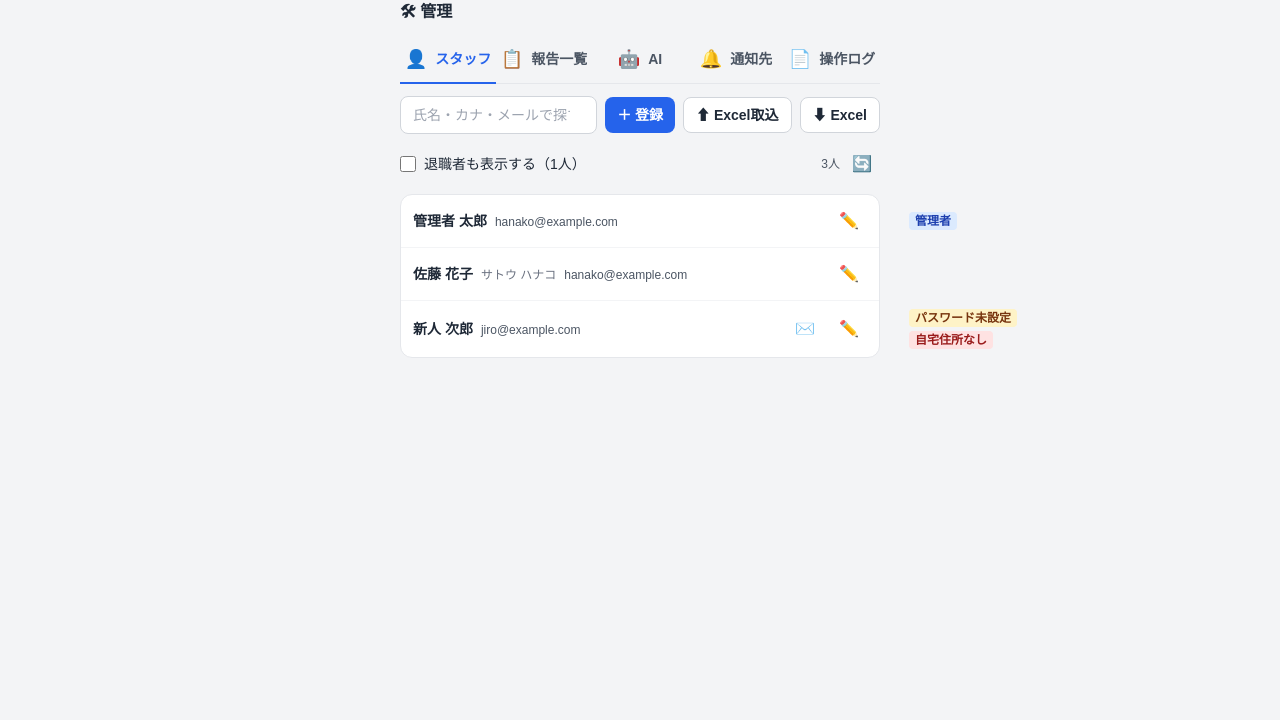
Test: 管理タブ: 指摘への対応 › 許可されていないカレンダーのサーバーの理由を項目の下に出す
Click the button named "佐藤 花子さんを編集" at (849, 274), box 831,256 -> 867,292
(page scrolled)
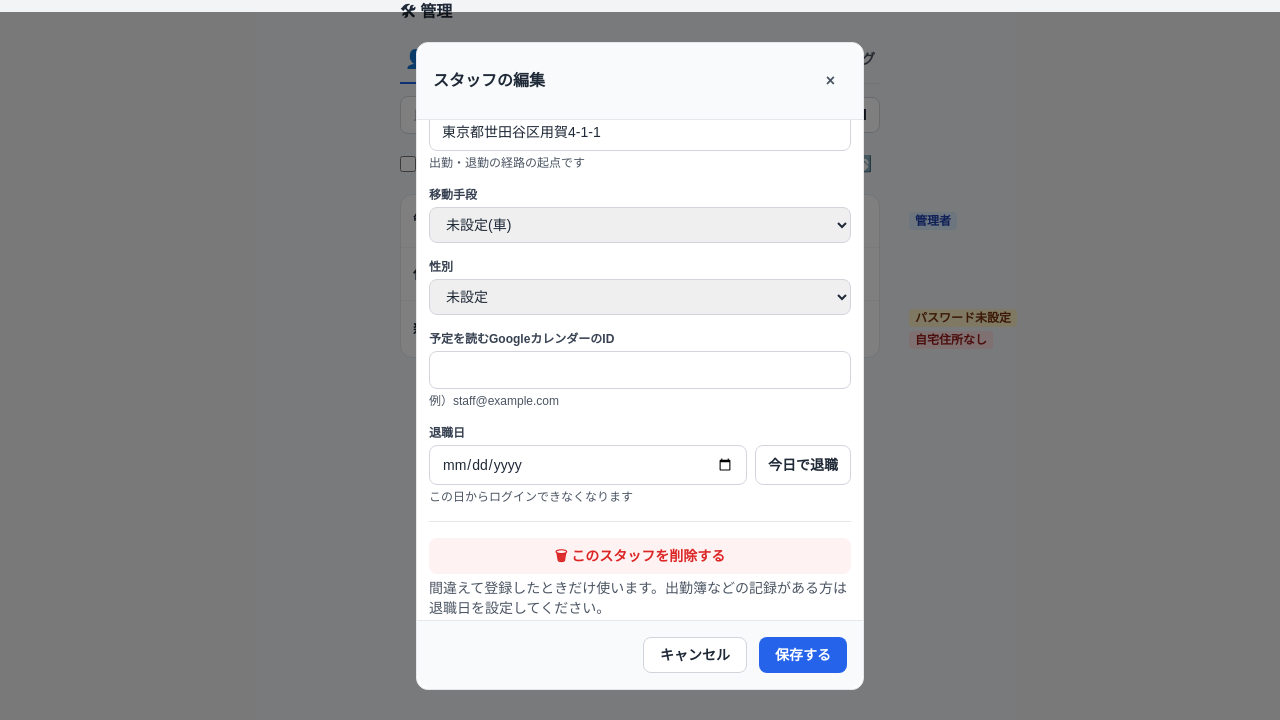
Type "x@other.example.org" into the field labelled "予定を読むGoogleカレンダーのID" at (640, 370), box 429,351 -> 851,389
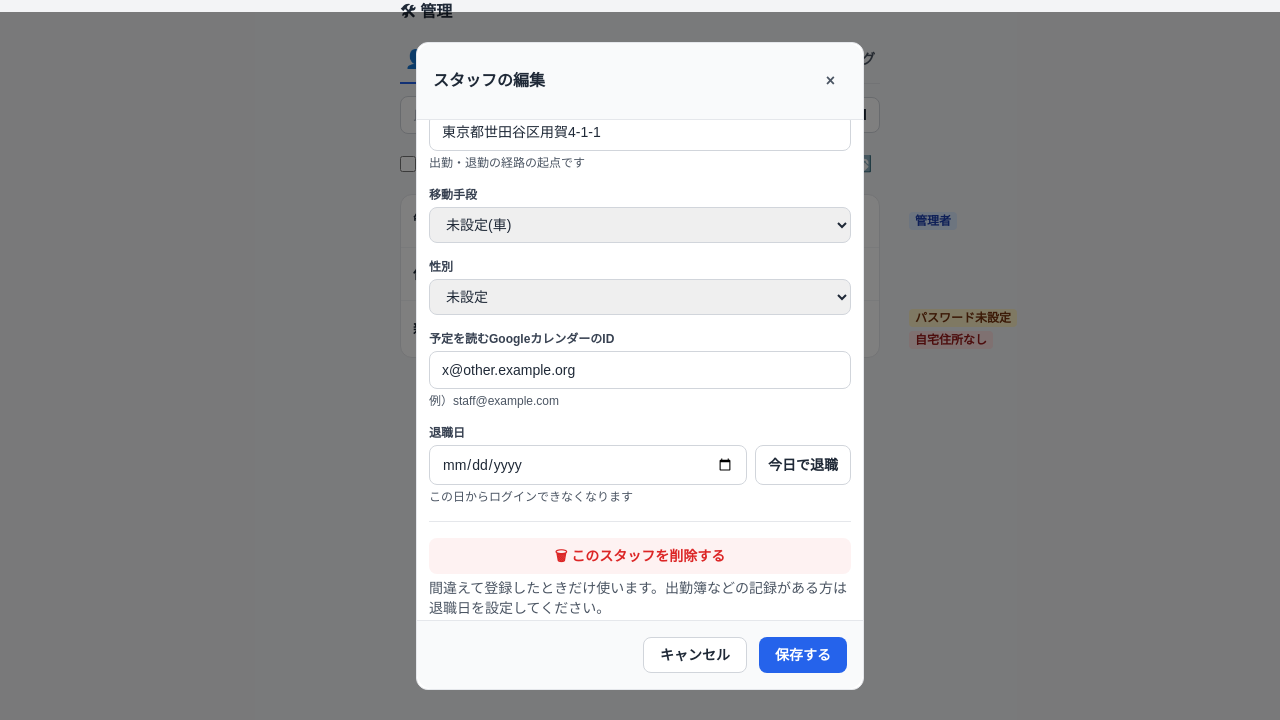
Click the button "保存する" at (803, 655), box 759,637 -> 847,673
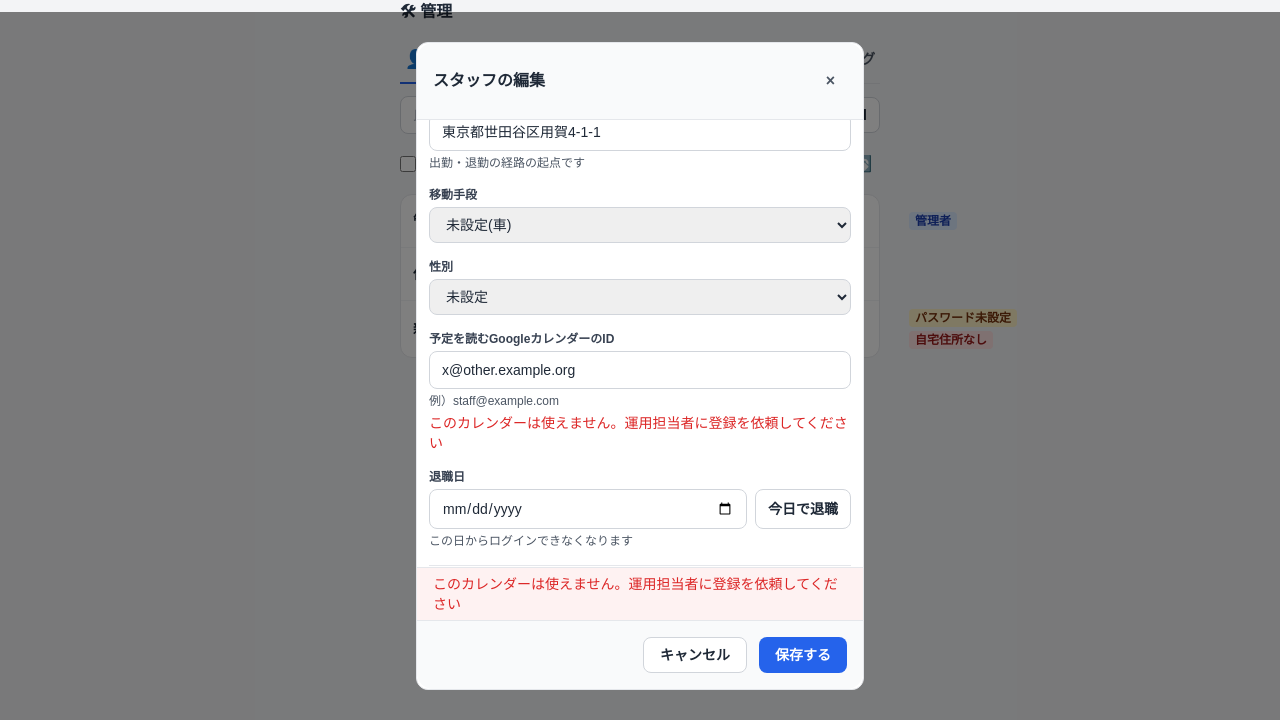
Expected: the text "このカレンダーは使えません。運用担当者に登録を依頼してください" is shown, 429,413 -> 851,453
